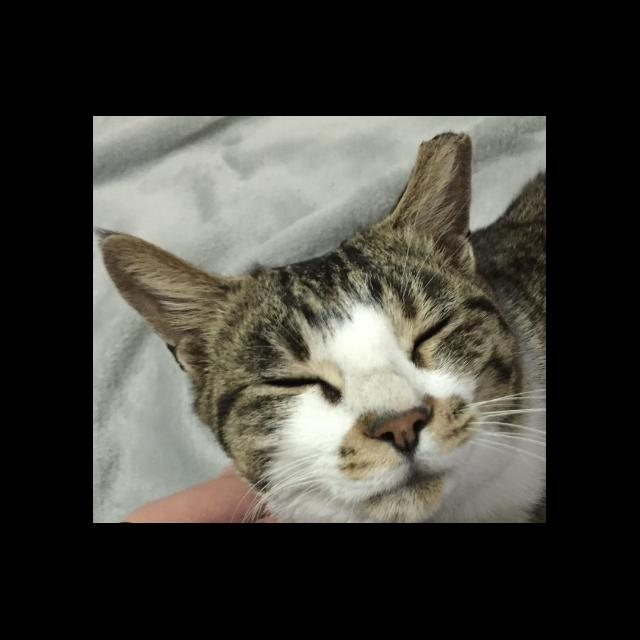animals: (98, 130, 504, 524)
